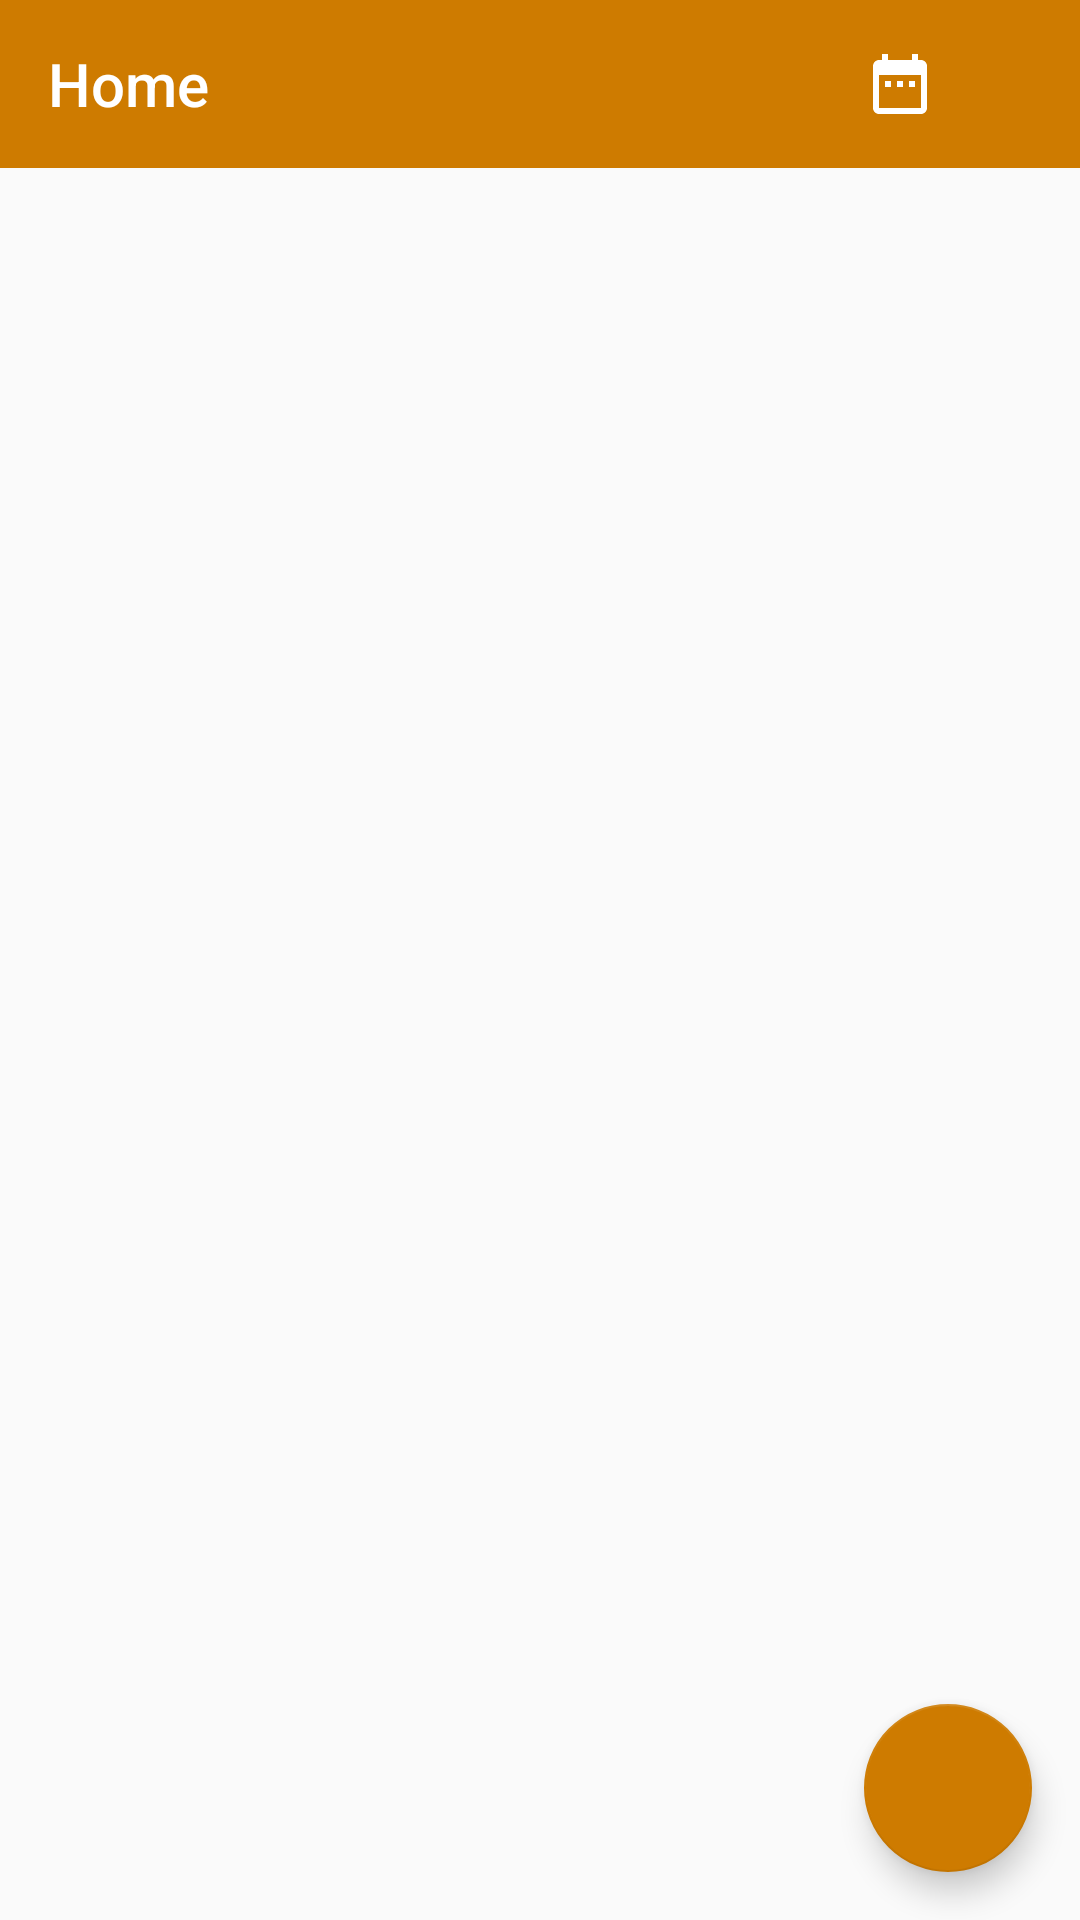

Point at icon controls on the screen. Image size 1080 x 1920, points as point (x, y).
date: point (900, 84)
